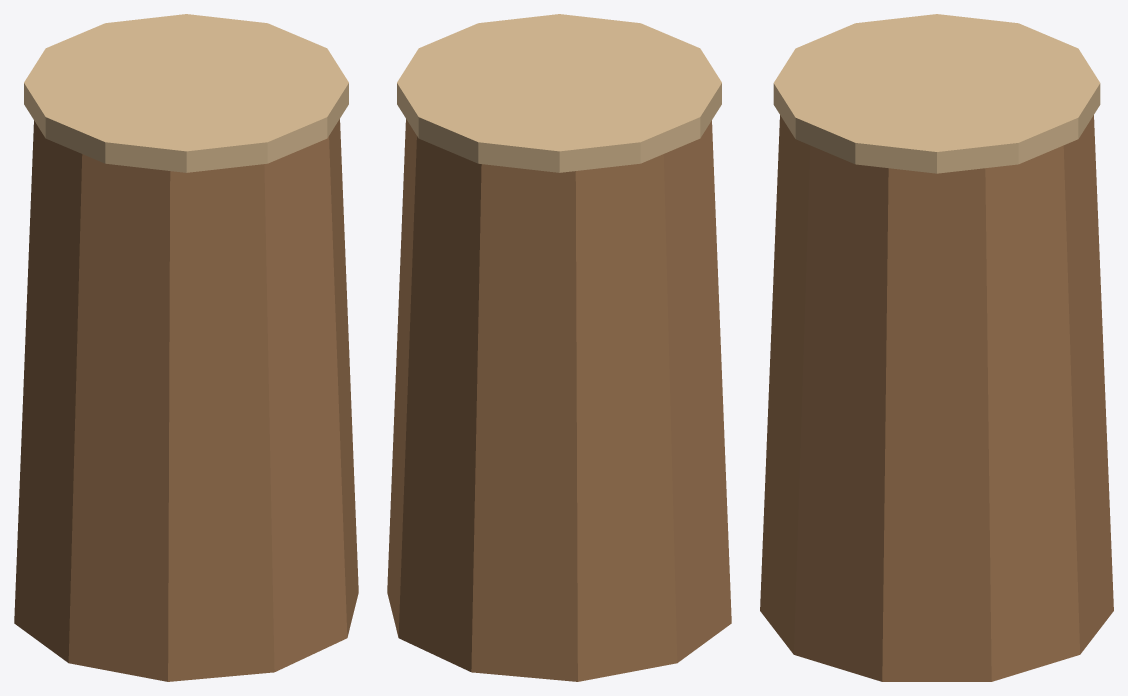
Rendered from stump_log_01.glb.
The picture shows the model from 3 angles, left to right: view 1: azimuth 30°, elevation 25°; view 2: azimuth 150°, elevation 25°; view 3: azimuth 270°, elevation 25°; orthographic projection.
Visible parts, largest first — view 1: stump_log_01; view 2: stump_log_01; view 3: stump_log_01.
Part boxes in pixels (bbox=[...]): stump_log_01: bbox=[14, 14, 358, 681]; stump_log_01: bbox=[387, 14, 731, 681]; stump_log_01: bbox=[760, 14, 1113, 681].
Bounding box in the file's own units: 0.4945 × 0.8555 × 0.52.
